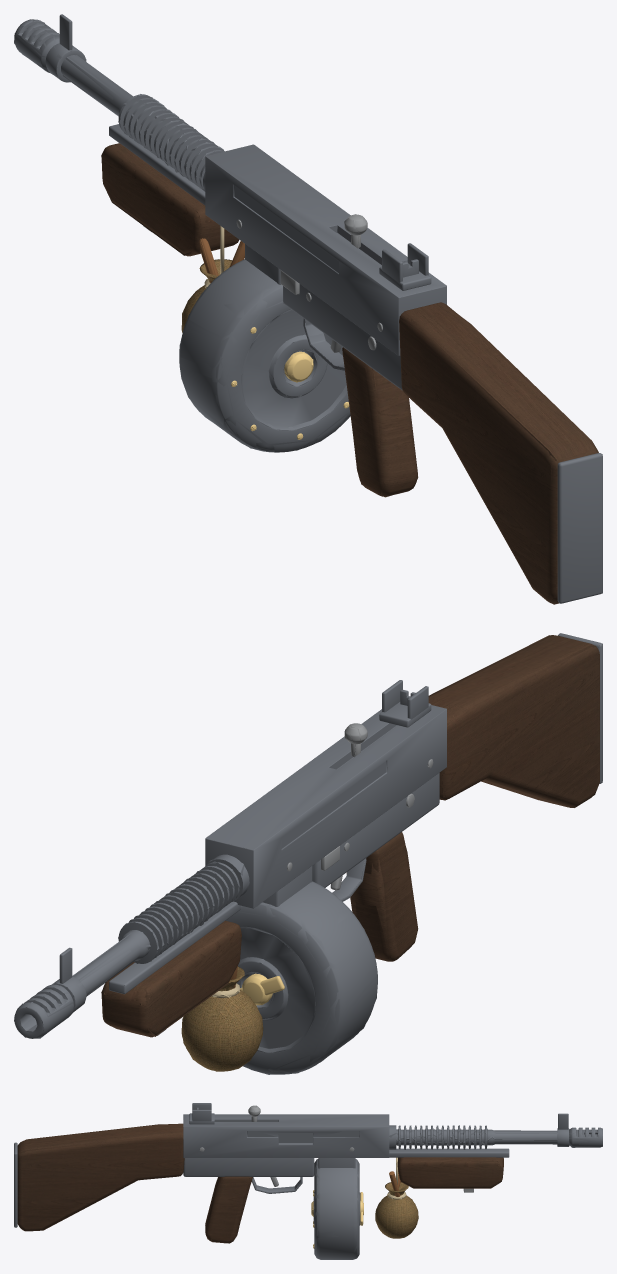
The model's file is cramar.glb.
3 views of the same model, one above another, from view 1: azimuth 30°, elevation 25°; view 2: azimuth 150°, elevation 25°; view 3: azimuth 270°, elevation 25° (orthographic). The views are drawn at different scales.
Visible parts, largest first — view 1: body, far, mag, pouch; view 2: body, far, mag, pouch; view 3: body, far, mag, pouch.
Boxes of the visible parts, x1,y1,x2,y2 form: body: (14, 14, 602, 603); far: (14, 19, 602, 604); mag: (179, 244, 349, 452); pouch: (181, 226, 244, 330); body: (14, 633, 602, 1038); far: (14, 633, 602, 1074); mag: (226, 866, 377, 1074); pouch: (181, 966, 262, 1071); body: (14, 1103, 602, 1243); far: (14, 1105, 602, 1259); mag: (311, 1158, 363, 1259); pouch: (375, 1157, 418, 1238).
Size of the model in its own units: 0.1368 by 0.219 by 0.786.
Materials: 7 (2 with a texture image).
